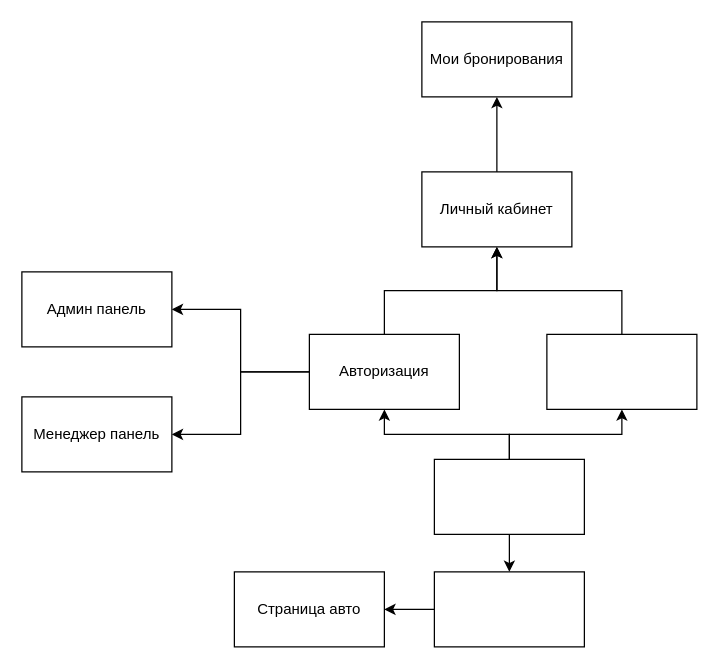
Image size: 719x669. Some labels were removed from this diagram. Here are the shapes that lost their labels. From the top down, the centre of each, then its label:
(x=621, y=371): Регистрация
(x=508, y=496): Главная
(x=508, y=609): Каталог
